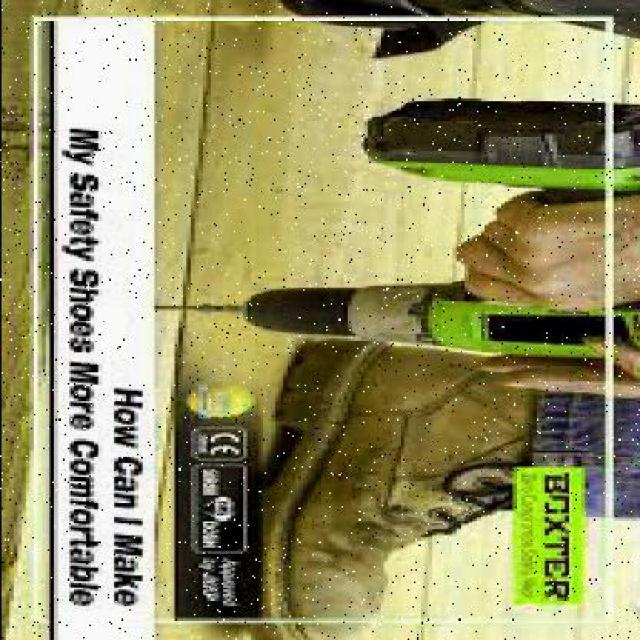shoes: (212, 360, 551, 634)
